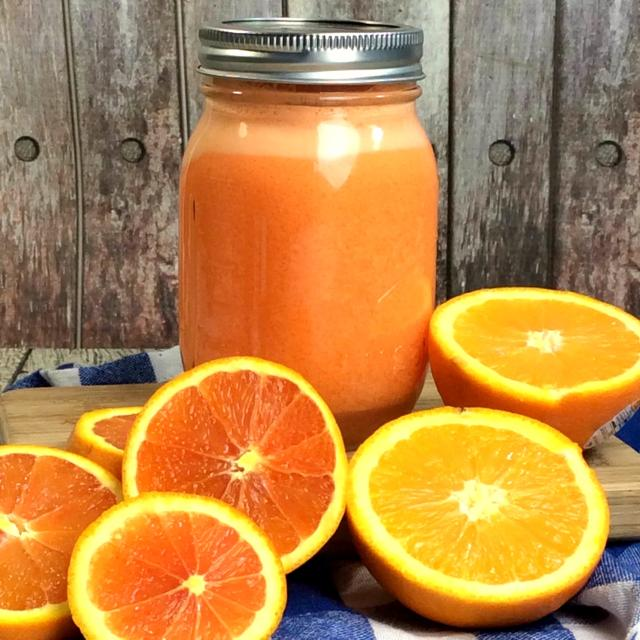Orange: (329, 388, 618, 635), (108, 351, 384, 588), (416, 258, 640, 463), (47, 487, 302, 640)
